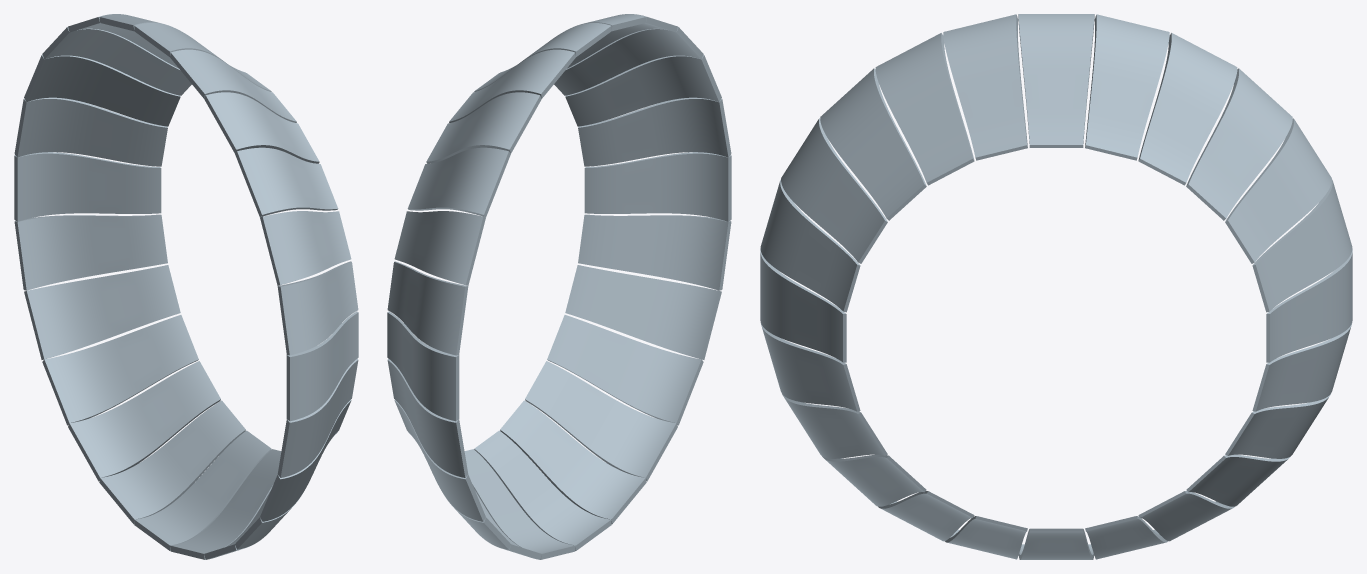
Rendered from bypass-nozzle-petals.glb.
3 renders of one model, left to right at view 1: azimuth 30°, elevation 25°; view 2: azimuth 150°, elevation 25°; view 3: azimuth 270°, elevation 25°, orthographic. The views are drawn at different scales.
Parts seen in each view (by area): view 1: bypass-nozzle-petals - steel; view 2: bypass-nozzle-petals - steel; view 3: bypass-nozzle-petals - steel.
Boxes of the visible parts, x1,y1,x2,y2 form: bypass-nozzle-petals - steel: (14,14,358,559); bypass-nozzle-petals - steel: (387,14,731,559); bypass-nozzle-petals - steel: (760,14,1352,559).
Size of the model in its own units: 0.69 by 3.08 by 3.08.
